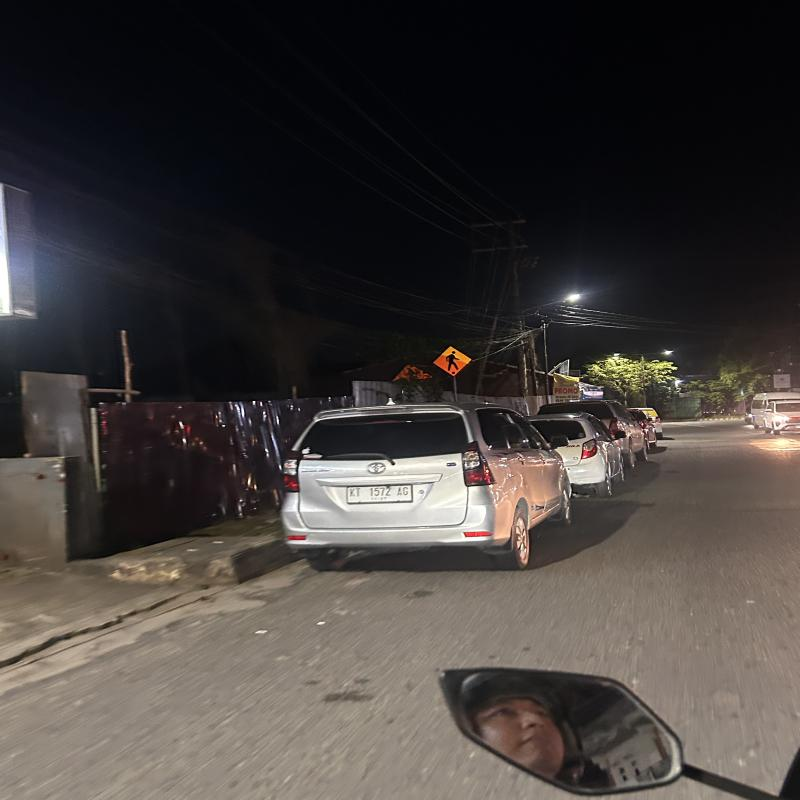license plate on a car: (346, 482, 419, 507)
